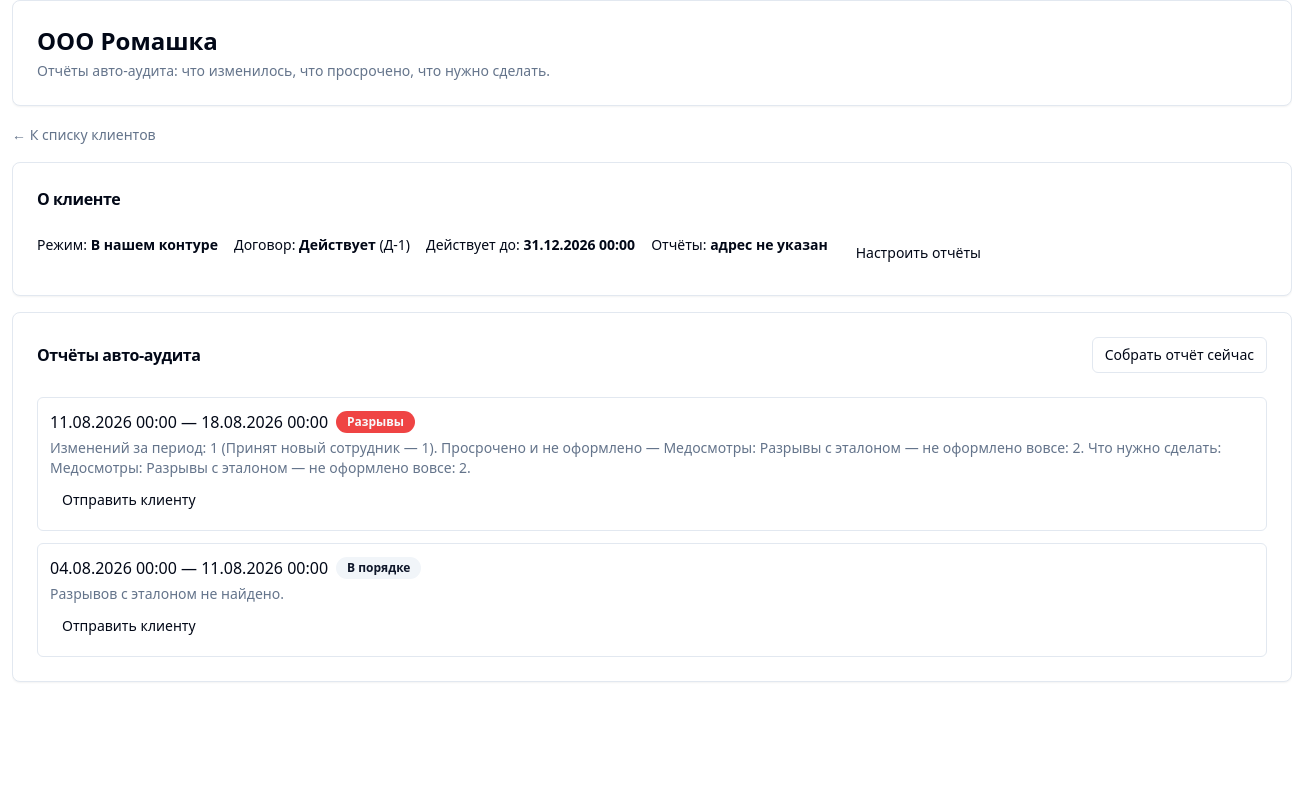
Test: Отчёт клиенту (BIZ-51 срез-11) › причина отказа отправки остаётся на экране
Click the button with test id "send-report". click: (129, 500)
box: [50, 482, 208, 518]
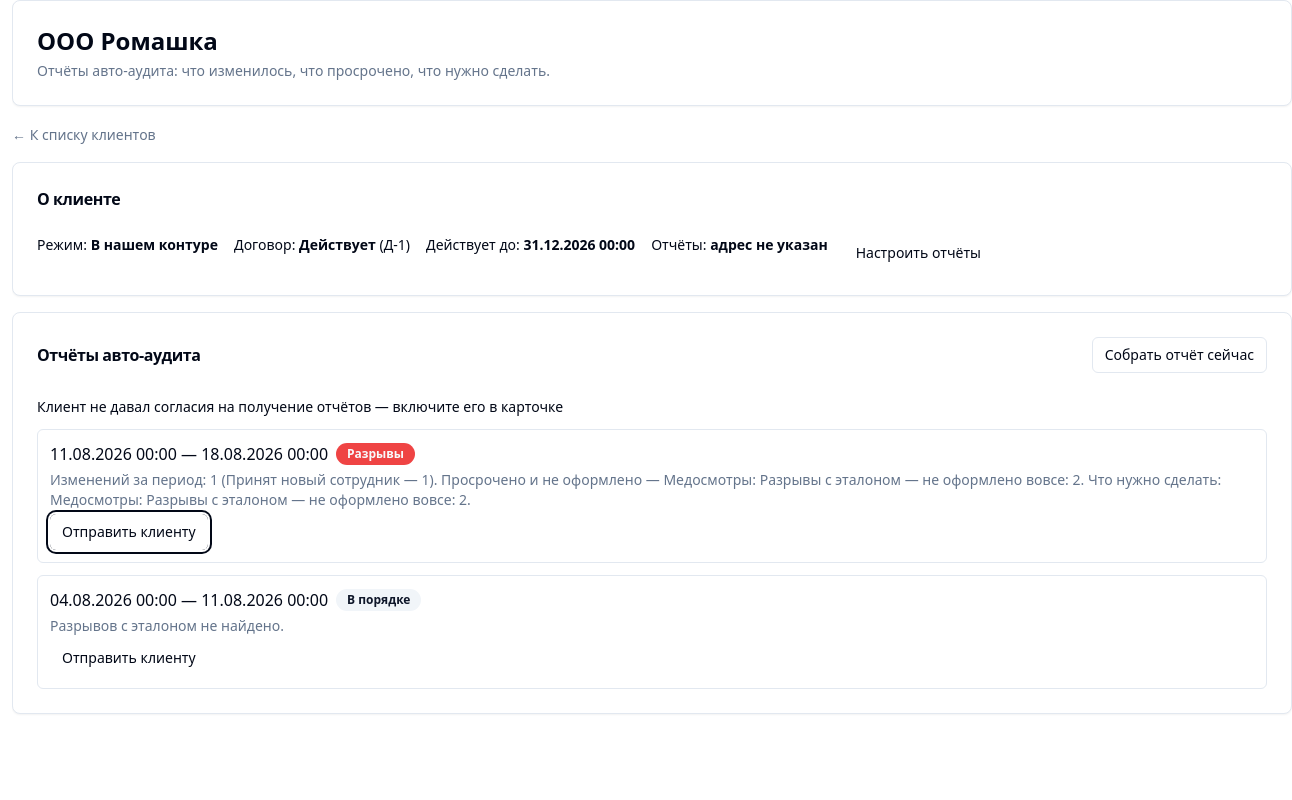
Now the text with test id "send-report-result" shows "согласия", box [37, 397, 563, 416]
